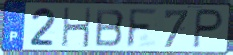2: (29, 6, 57, 49)
7: (163, 9, 190, 48)
B: (94, 8, 126, 48)
F: (125, 8, 160, 49)
H: (61, 7, 93, 50)
P: (191, 8, 225, 51)
